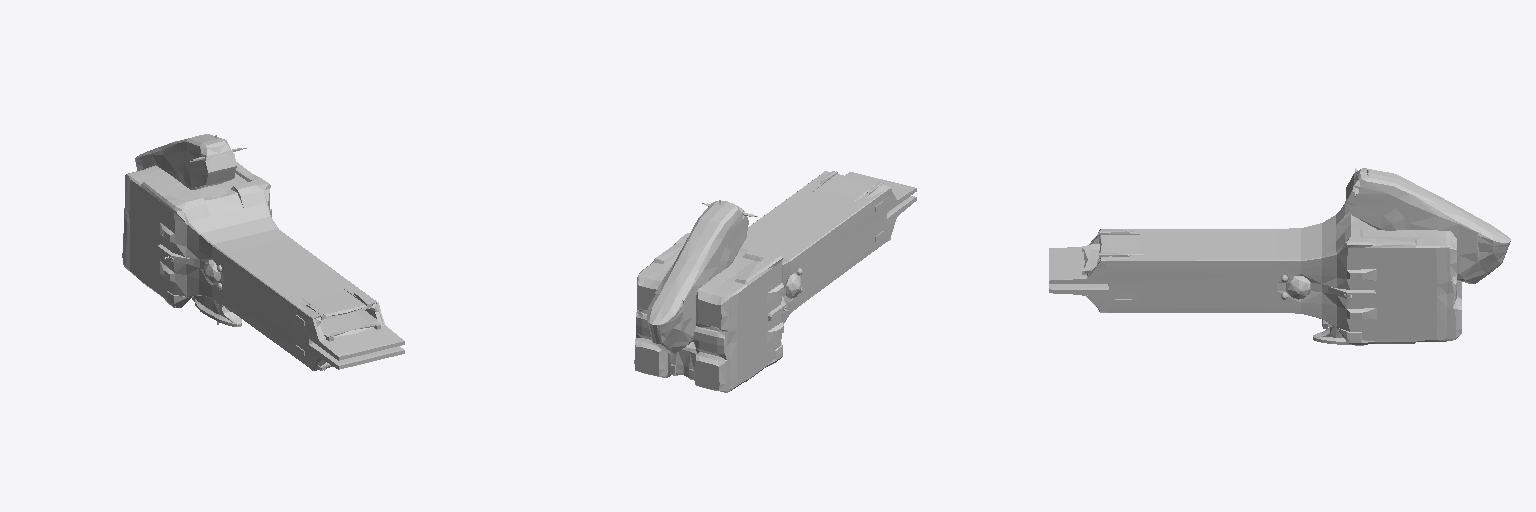
File: tgef_01_destroyer_01_v6.obj
3 renders of one model, left to right at view 1: azimuth 30°, elevation 25°; view 2: azimuth 150°, elevation 25°; view 3: azimuth 270°, elevation 25°, orthographic.
Parts seen in each view (by area): view 1: Plane.004; view 2: Plane.004; view 3: Plane.004.
Boxes of the visible parts, x1,y1,x2,y2 form: Plane.004: [122, 134, 404, 370]; Plane.004: [634, 171, 916, 392]; Plane.004: [1049, 168, 1510, 345].
Bounding box in the file's own units: 19.72 × 30.67 × 70.31.